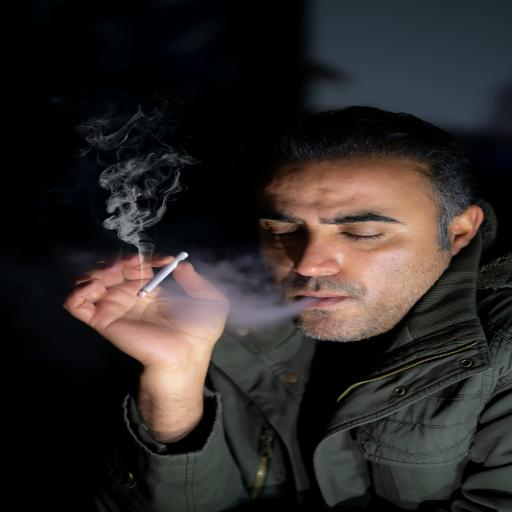terdeteksi pegang rokok: (92, 210, 233, 344)
